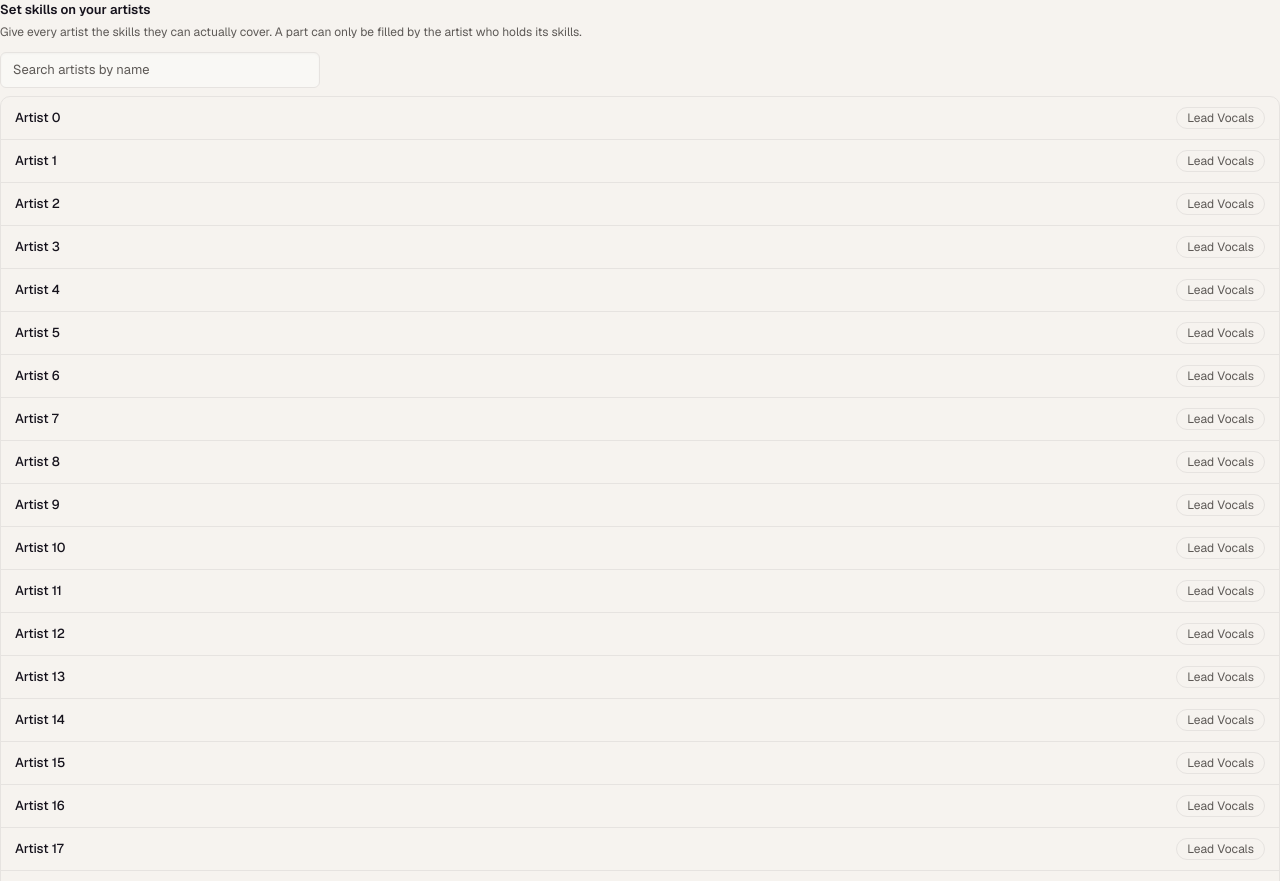
Test case: ArtistSkillAssignList › stays bounded at the product's 200+ artist scale, and filters by name
A name filter reaches an artist far outside that first page.
In the field labelled "Search artists by name": (160, 70) [0, 52, 320, 88], type "Artist 187"
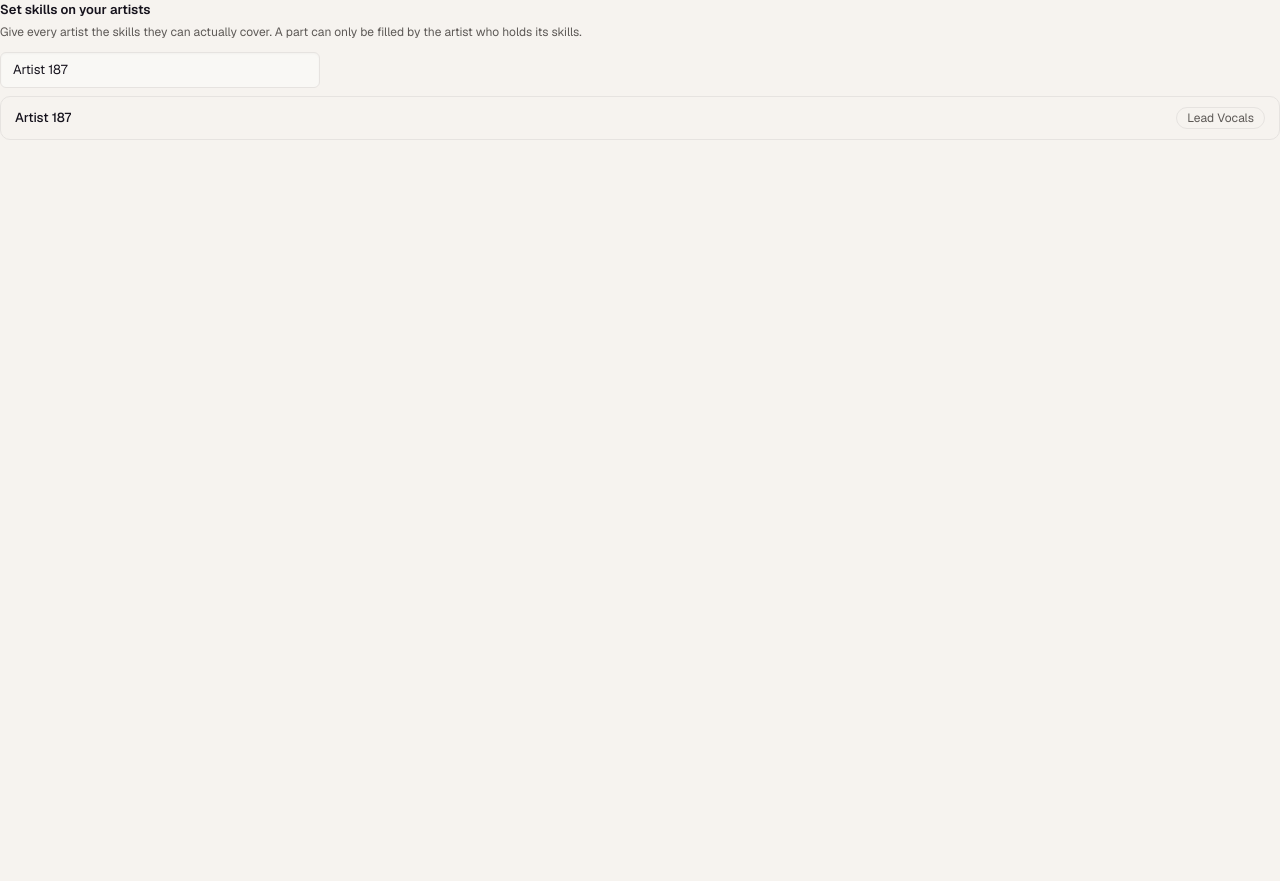
expect the number of list items is 1: met, box [15, 106, 1265, 128]
expect the text "Artist 187" is shown: met, box [15, 108, 72, 127]
